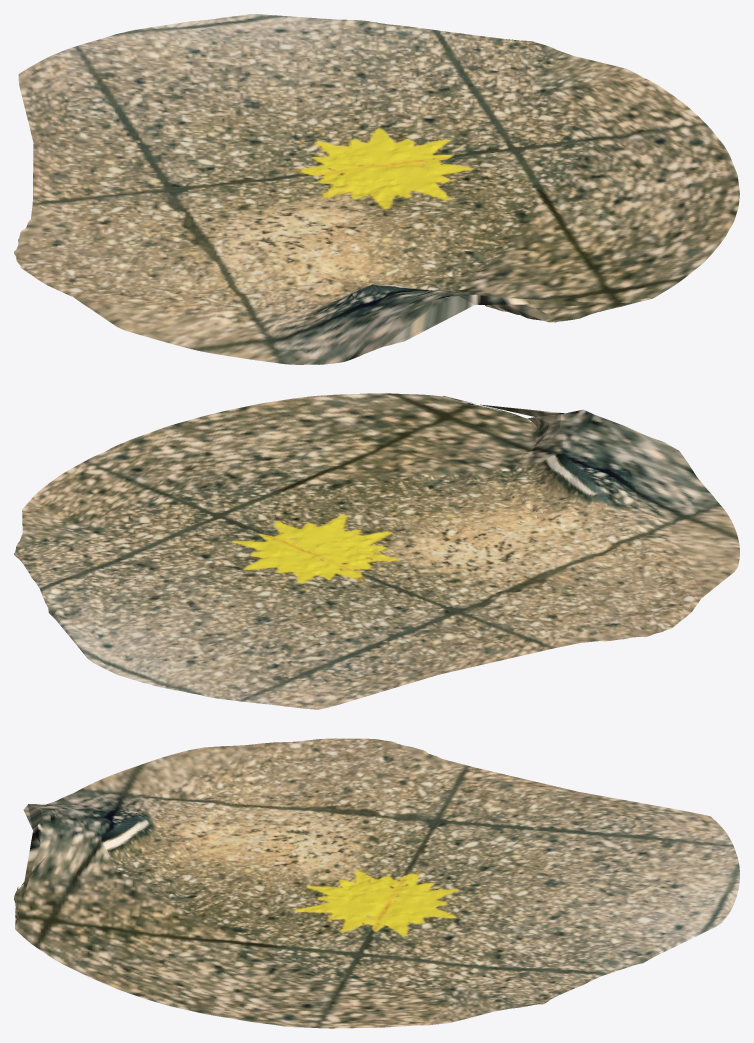
Rendered from scaniverse-2025-05-22-145322.fbx.
3 renders of one model, top to bottom at view 1: azimuth 30°, elevation 25°; view 2: azimuth 150°, elevation 25°; view 3: azimuth 270°, elevation 25°, orthographic. The views are drawn at different scales.
Visible parts, largest first — view 1: mesh; view 2: mesh; view 3: mesh.
Boxes of the visible parts, x1=… form: mesh: x1=14, y1=14, x2=739, y2=364; mesh: x1=14, y1=393, x2=739, y2=709; mesh: x1=14, y1=738, x2=739, y2=1028.
Bounding box in the file's own units: 0.6453 × 0.0416 × 0.6776.
Materials: 1 (1 with a texture image).
